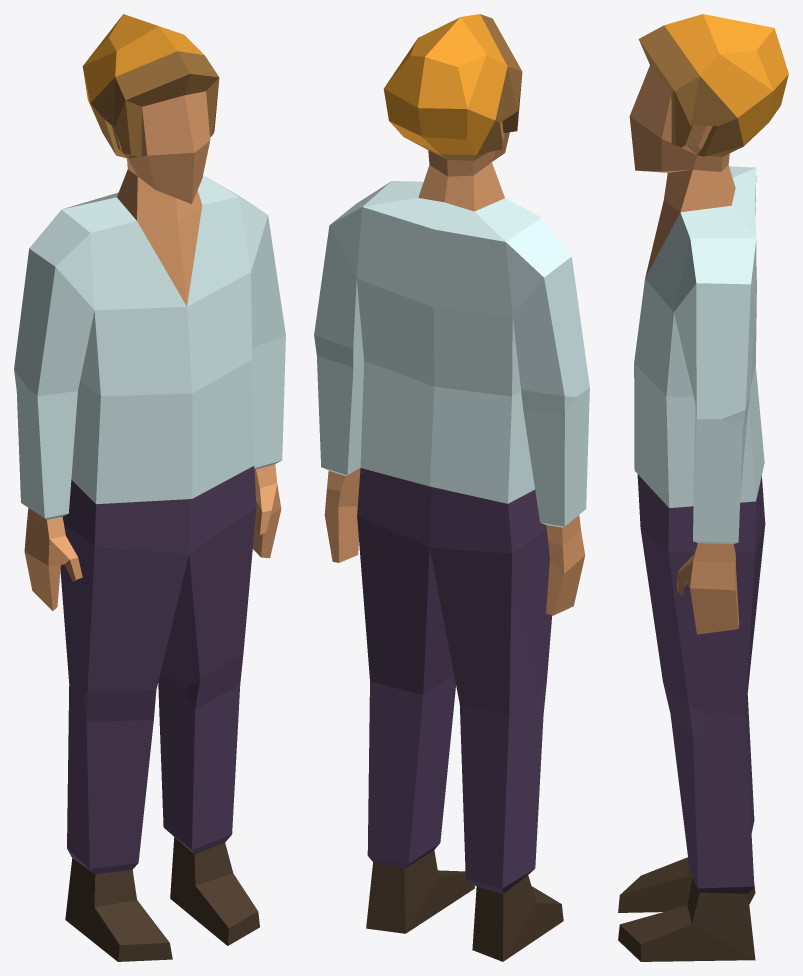
Rendered from people_man-pedestrian-rival-young.fbx.
The picture shows the model from 3 angles, left to right: view 1: azimuth 30°, elevation 25°; view 2: azimuth 150°, elevation 25°; view 3: azimuth 270°, elevation 25°; orthographic projection.
Parts seen in each view (by area): view 1: people_man_pedestrian_rival_young; view 2: people_man_pedestrian_rival_young; view 3: people_man_pedestrian_rival_young.
Part boxes in pixels (x1,y1,x2,y2): people_man_pedestrian_rival_young: (14,14,285,961); people_man_pedestrian_rival_young: (314,14,589,961); people_man_pedestrian_rival_young: (618,14,788,961).
Size of the model in its own units: 58.01 by 200 by 33.93.
